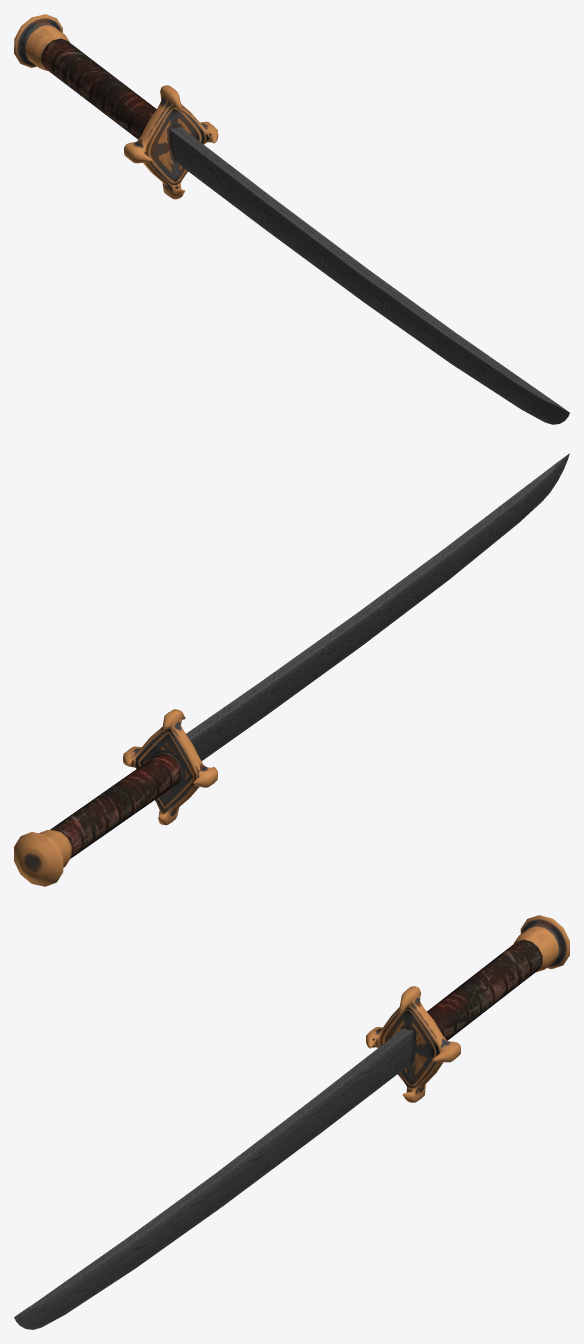
The model's file is sword.glb.
3 views of the same model, one above another, from view 1: azimuth 30°, elevation 25°; view 2: azimuth 150°, elevation 25°; view 3: azimuth 330°, elevation 25° (orthographic).
Visible parts, largest first — view 1: Cube; view 2: Cube; view 3: Cube.
Part boxes in pixels (x1,y1,x2,y2): Cube: [14, 14, 569, 424]; Cube: [14, 453, 569, 886]; Cube: [14, 915, 569, 1329].
Size of the model in its own units: 0.1033 by 0.1254 by 1.11.
1 material, 1 textured.
